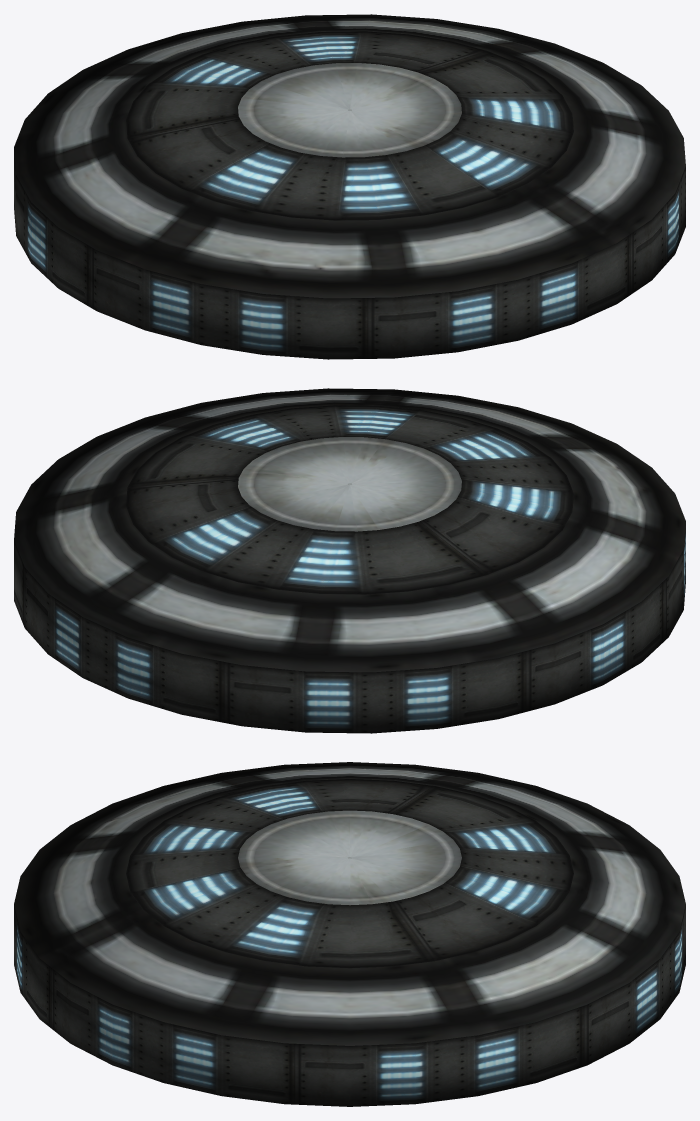
File: ovni.fbx
3 views of the same model, one above another, from view 1: azimuth 30°, elevation 25°; view 2: azimuth 150°, elevation 25°; view 3: azimuth 270°, elevation 25° (orthographic).
Parts seen in each view (by area): view 1: Cylinder; view 2: Cylinder; view 3: Cylinder.
Part boxes in pixels (left/top/right/bottom): Cylinder: left=14, top=14, right=685, bottom=359; Cylinder: left=14, top=388, right=685, bottom=733; Cylinder: left=14, top=762, right=685, bottom=1106.
Bounding box in the file's own units: 10.2 × 2.3 × 10.2.
